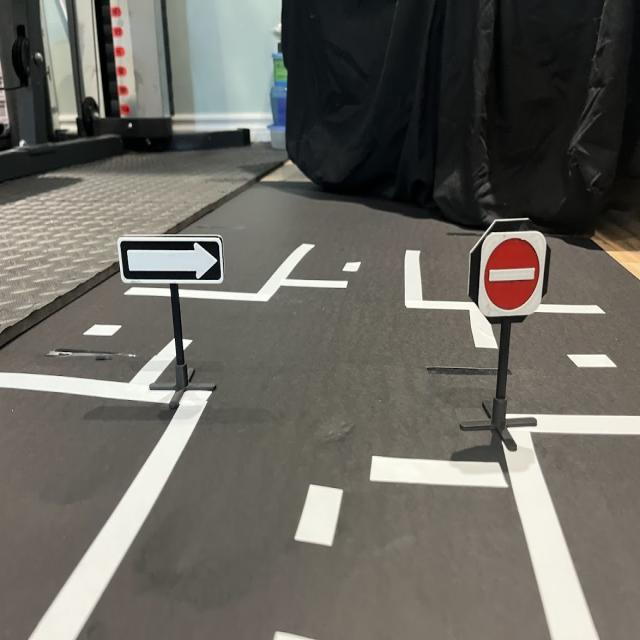sign_noentry: (480, 233, 544, 317)
sign_oneway_right: (119, 235, 226, 287)
